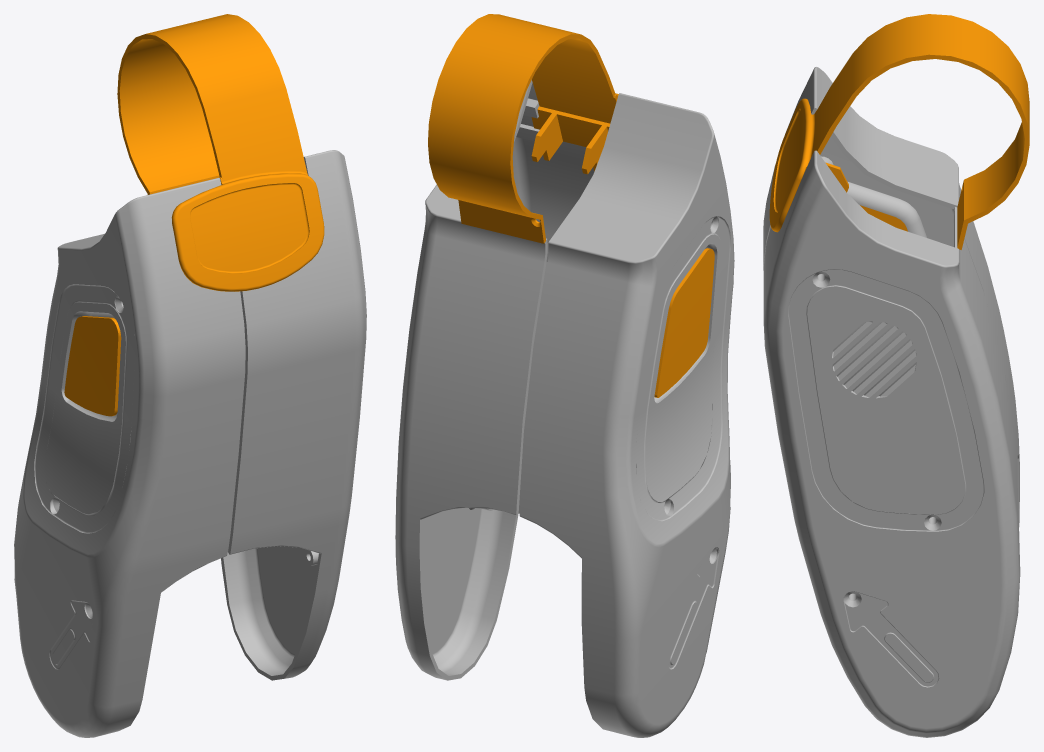
File: RLowerLeg.obj
3 renders of one model, left to right at view 1: azimuth 30°, elevation 25°; view 2: azimuth 150°, elevation 25°; view 3: azimuth 270°, elevation 25°, orthographic.
Size of the model in its own units: 0.1529 by 0.3961 by 0.141.
